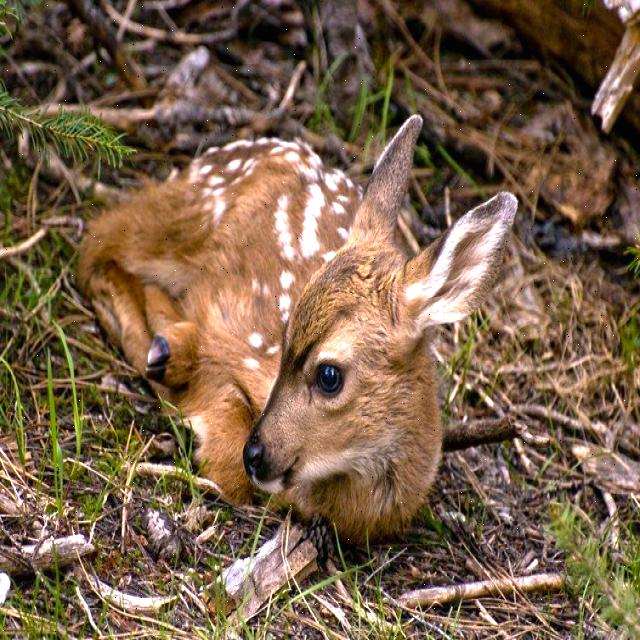deer: (207, 104, 517, 516)
